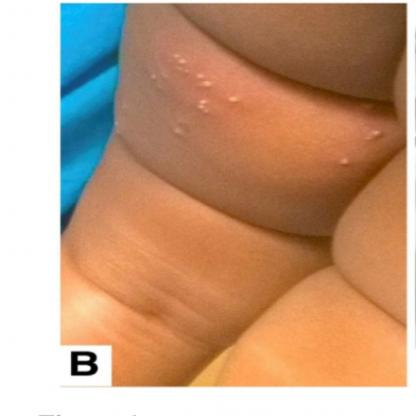Bed Bug: (164, 55, 286, 111), (261, 126, 327, 204), (175, 145, 242, 192), (180, 8, 252, 46), (105, 50, 153, 103), (351, 235, 396, 266), (208, 113, 259, 138), (290, 256, 322, 286), (193, 207, 223, 237), (137, 117, 173, 139), (360, 198, 388, 217), (404, 170, 415, 194)
